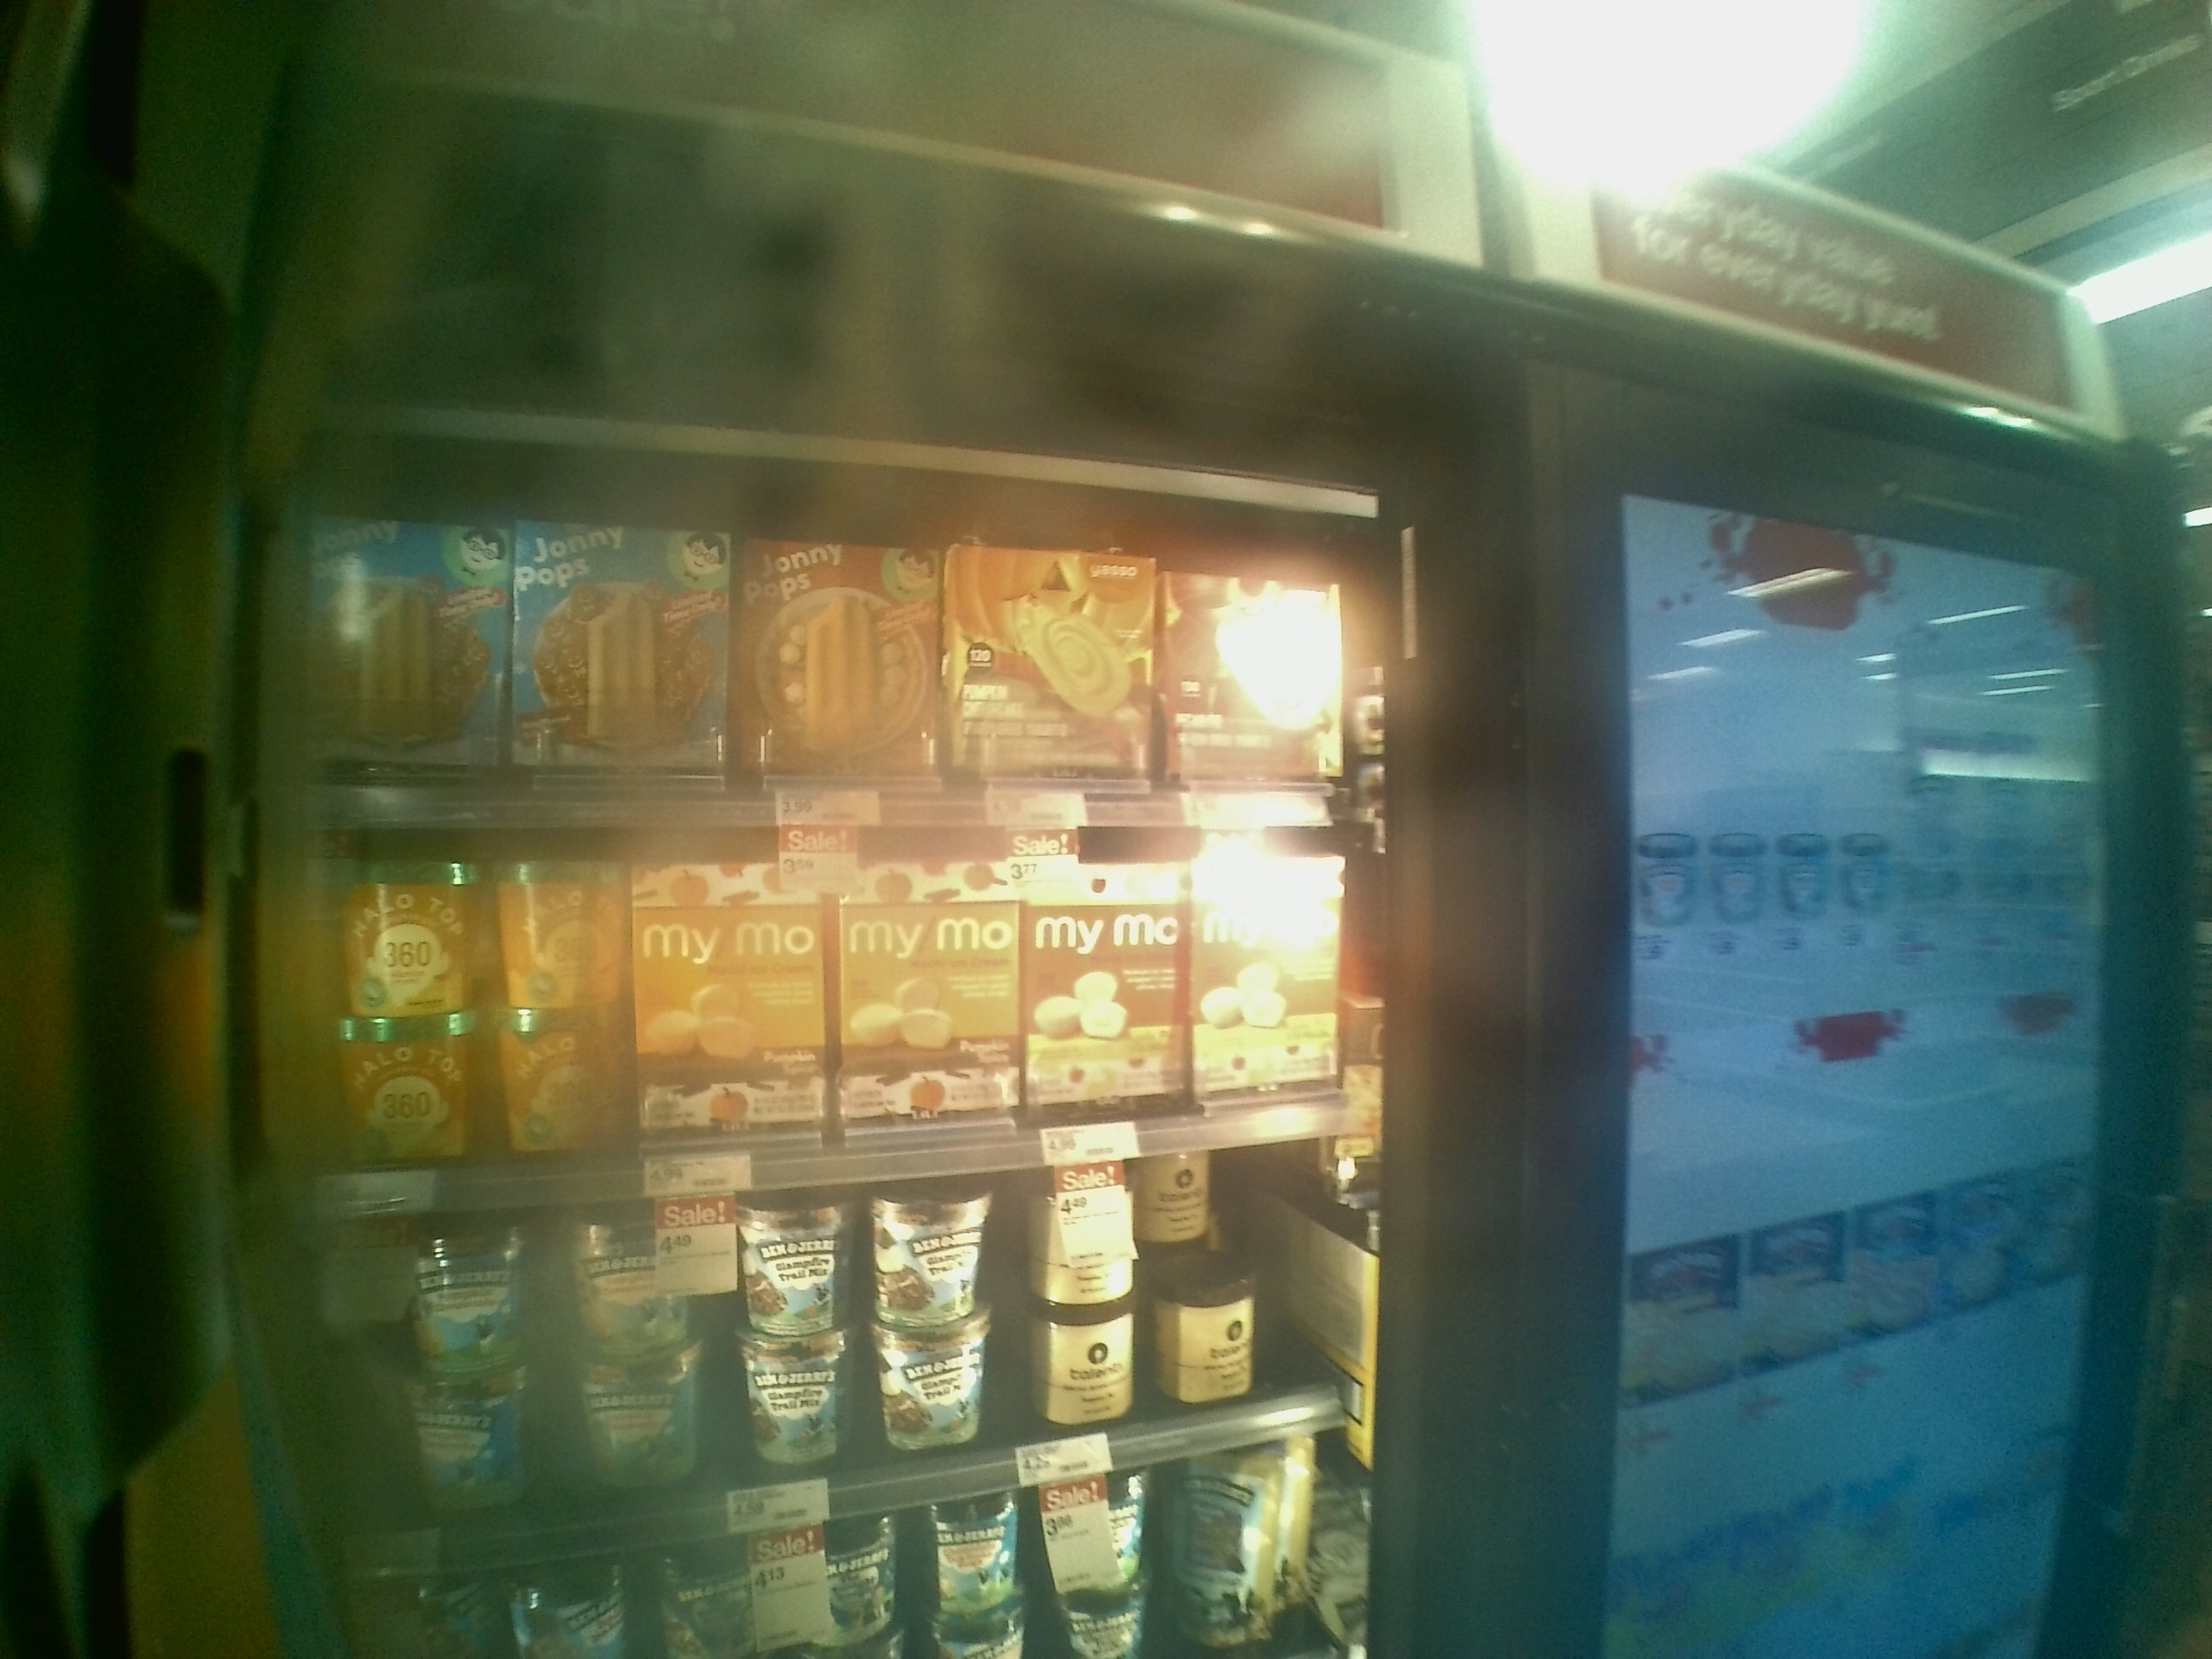shelf: (289, 443, 1399, 829), (280, 835, 1400, 1145), (265, 1171, 1411, 1453)
